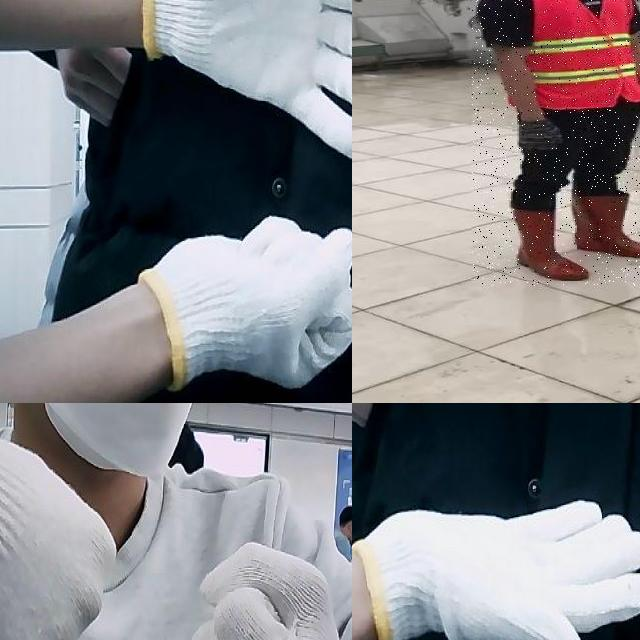BOOTS: (509, 205, 589, 281), (572, 195, 640, 257)
GLOVE: (356, 499, 640, 640), (139, 215, 352, 392), (139, 0, 352, 164), (0, 410, 113, 640), (158, 540, 352, 640), (517, 113, 563, 153)
VEST: (497, 0, 640, 107)
